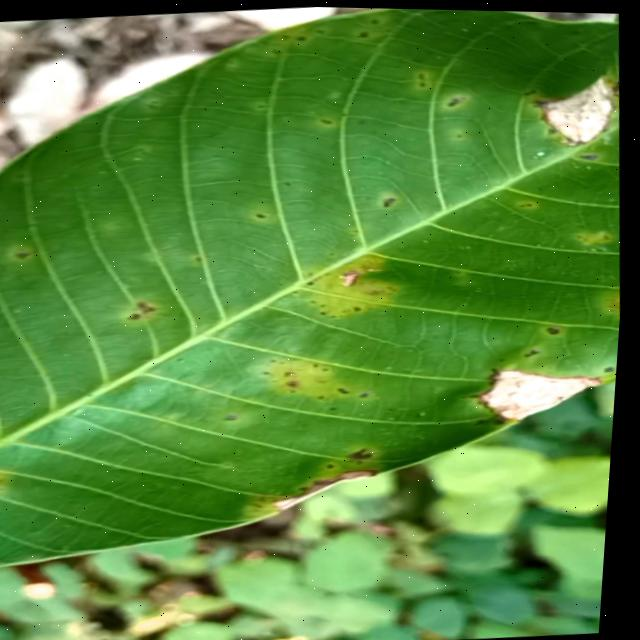Leaf-Blight: (485, 360, 608, 422), (535, 70, 620, 144), (275, 465, 382, 511)
